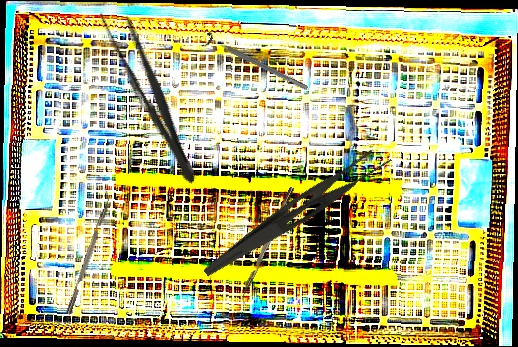Chopper: (236, 186, 301, 306), (59, 188, 116, 315)
Dressing Forceps: (201, 135, 395, 297), (93, 1, 208, 190)
Fixation Ring: (201, 30, 311, 97)
